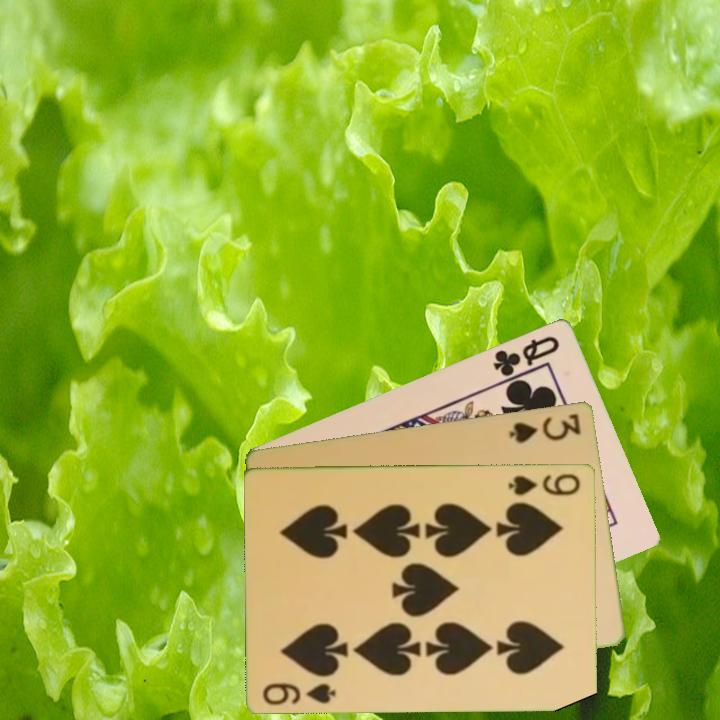3s: (506, 409, 584, 446)
9s: (260, 679, 339, 707), (505, 470, 583, 498)
Qc: (489, 332, 563, 385)
